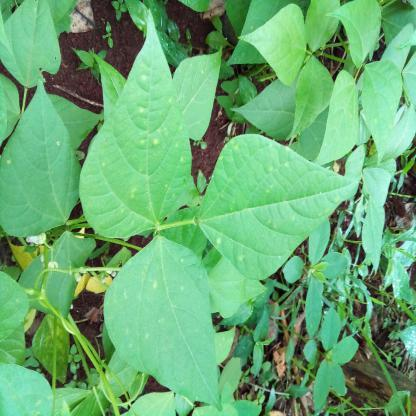Beans_Rust: (76, 9, 193, 235), (198, 136, 358, 270), (104, 238, 219, 406), (0, 81, 72, 249)
